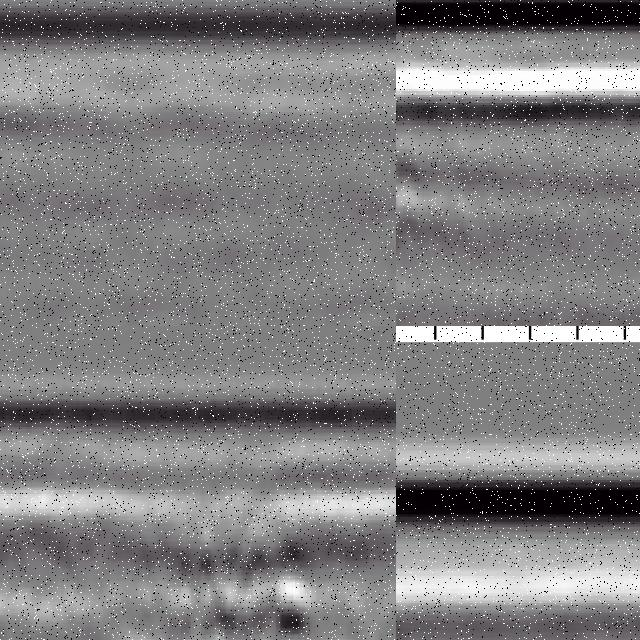loose: (150, 519, 334, 640), (397, 130, 522, 267)
